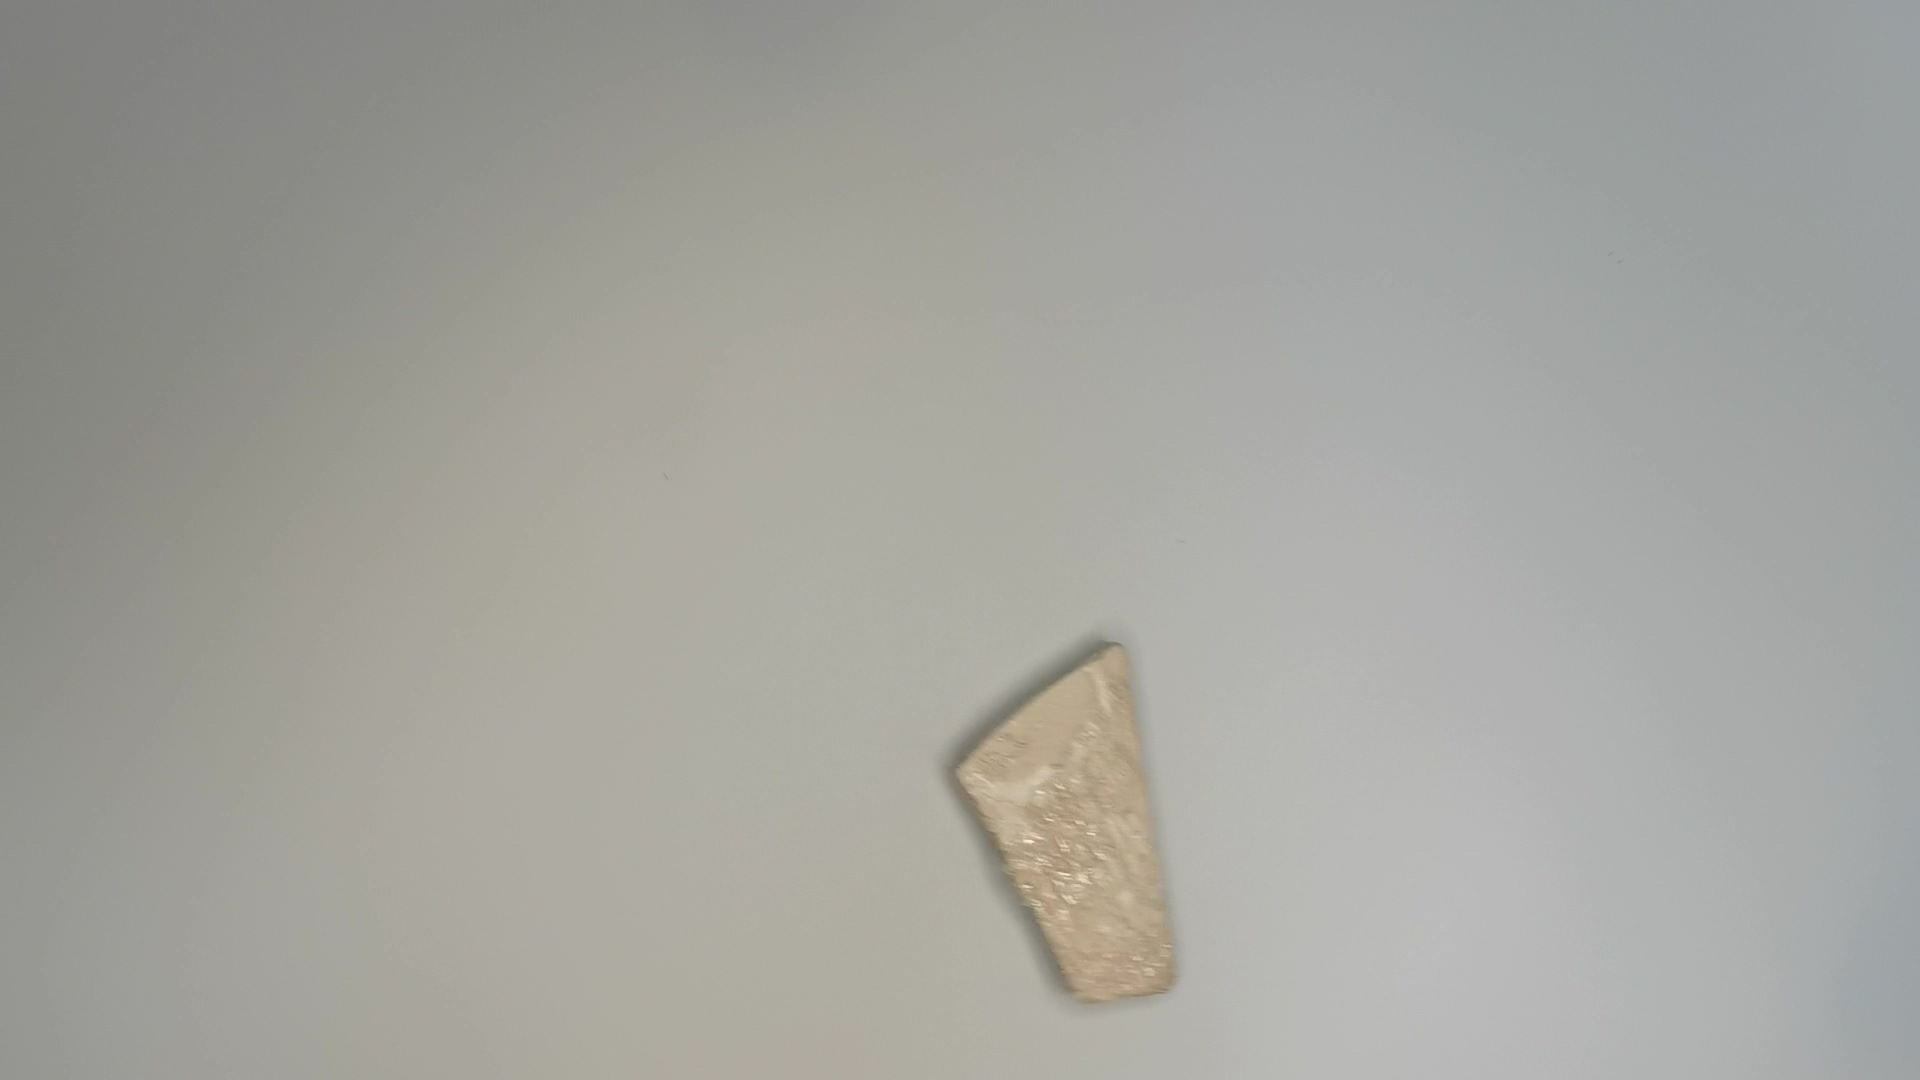ceramic: (943, 637, 1189, 1015)
